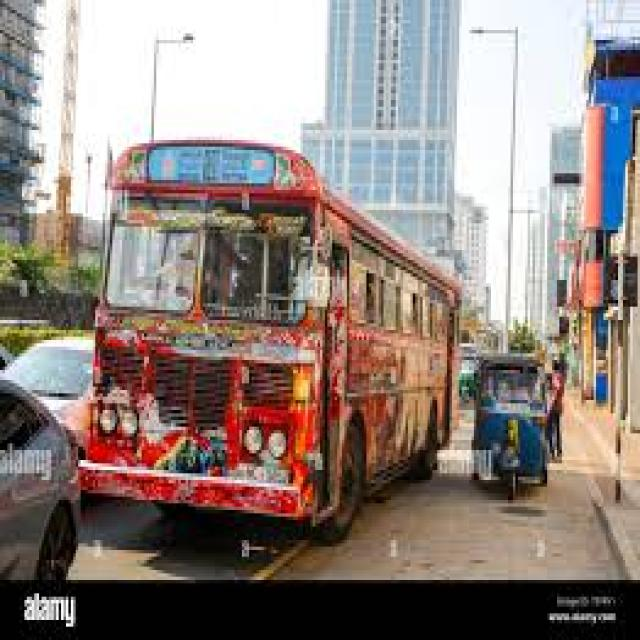bus: (87, 118, 468, 534)
tuktuk: (482, 328, 569, 531)
